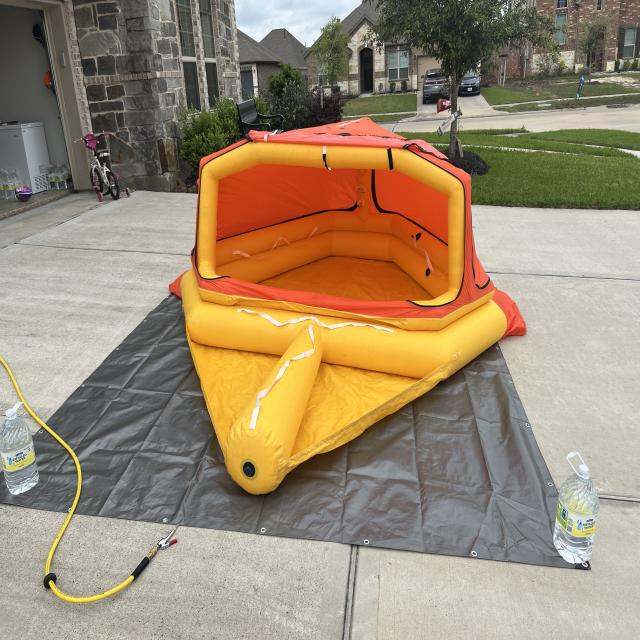Multi-person_life_raft: (167, 114, 527, 498)
